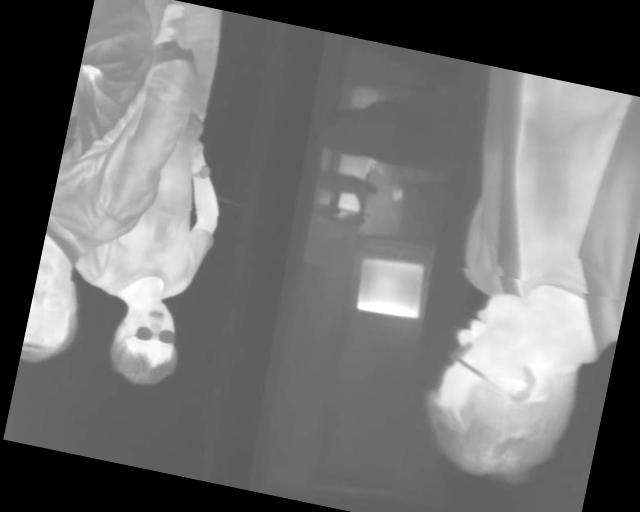face: (105, 293, 187, 391)
